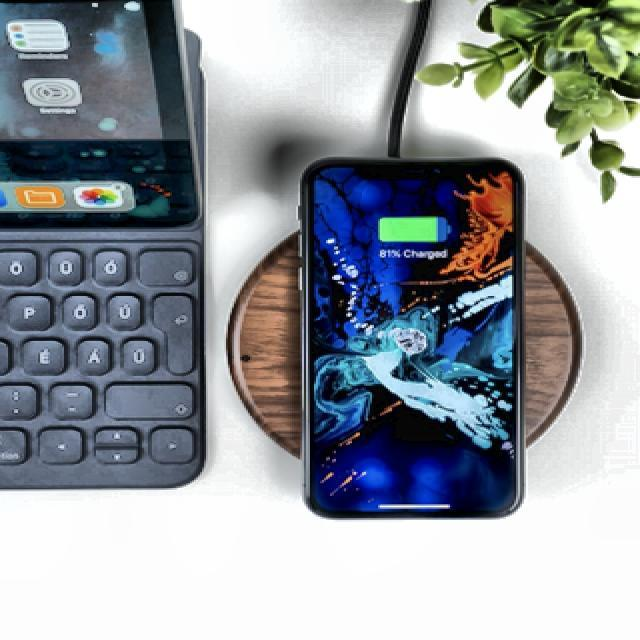Phone: (296, 156, 526, 518)
